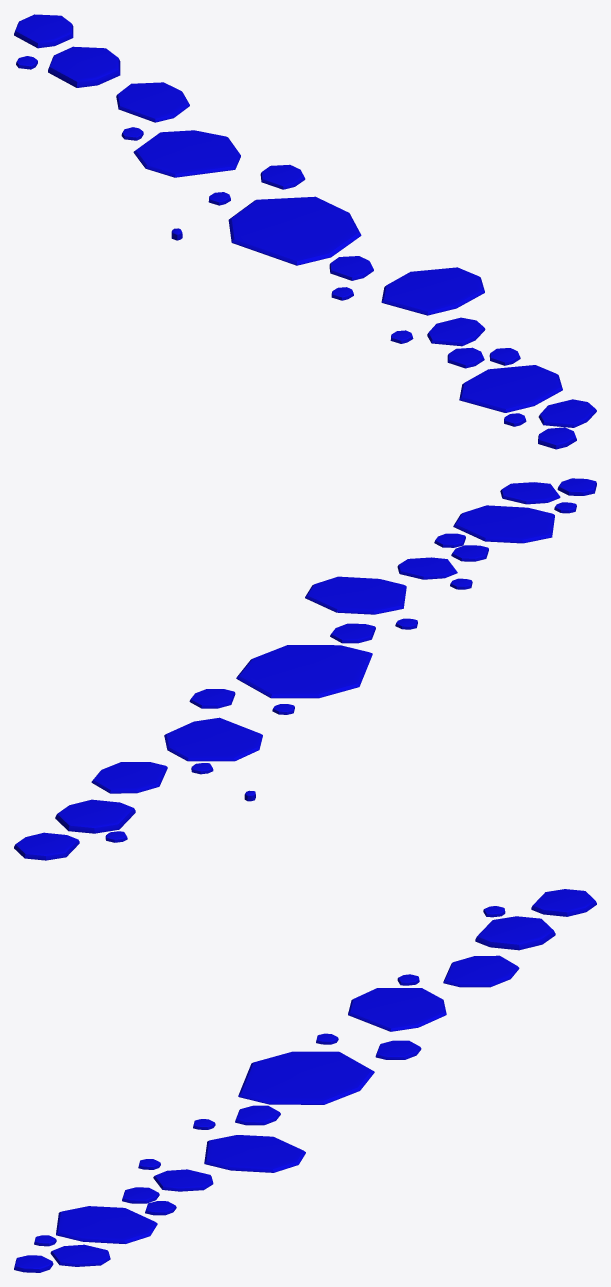
Rendered from TutorialPathMesh.fbx.
The picture shows the model from 3 angles, top to bottom: view 1: azimuth 30°, elevation 25°; view 2: azimuth 150°, elevation 25°; view 3: azimuth 330°, elevation 25°; orthographic projection. The views are drawn at different scales.
Visible parts, largest first — view 1: pCube16, pCube12, pCube3, pCube31, pCube15, pCube10, pCube123, pCube124, pCube2, pCube7, pCube6, pCube126 (+1 smaller); view 2: pCube16, pCube12, pCube31, pCube3, pCube15, pCube10, pCube123, pCube124, pCube2, pCube6, pCube7, pCube126 (+1 smaller); view 3: pCube16, pCube12, pCube3, pCube31, pCube15, pCube10, pCube123, pCube2, pCube124, pCube6, pCube7, pCube126 (+1 smaller).
Part boxes in pixels (x1=…): pCube16: x1=228, y1=196, x2=361, y2=265; pCube12: x1=133, y1=130, x2=240, y2=177; pCube3: x1=381, y1=267, x2=484, y2=315; pCube31: x1=459, y1=365, x2=562, y2=412; pCube15: x1=48, y1=46, x2=120, y2=87; pCube10: x1=116, y1=82, x2=189, y2=122; pCube123: x1=14, y1=14, x2=73, y2=48; pCube124: x1=538, y1=399, x2=596, y2=427; pCube2: x1=427, y1=317, x2=485, y2=346; pCube7: x1=260, y1=164, x2=305, y2=189; pCube6: x1=329, y1=256, x2=373, y2=280; pCube126: x1=538, y1=427, x2=576, y2=449; pCube16: x1=236, y1=645, x2=372, y2=698; pCube12: x1=164, y1=717, x2=262, y2=761; pCube31: x1=453, y1=505, x2=554, y2=543; pCube3: x1=305, y1=576, x2=406, y2=614; pCube15: x1=55, y1=799, x2=135, y2=833; pCube10: x1=91, y1=762, x2=167, y2=793; pCube123: x1=14, y1=832, x2=79, y2=860; pCube124: x1=500, y1=482, x2=560, y2=504; pCube2: x1=397, y1=557, x2=457, y2=579; pCube6: x1=330, y1=623, x2=375, y2=643; pCube7: x1=189, y1=689, x2=235, y2=708; pCube126: x1=557, y1=478, x2=596, y2=495; pCube16: x1=238, y1=1051, x2=374, y2=1104; pCube12: x1=348, y1=988, x2=446, y2=1031; pCube3: x1=204, y1=1135, x2=305, y2=1172; pCube31: x1=56, y1=1206, x2=157, y2=1243; pCube15: x1=475, y1=916, x2=555, y2=950; pCube10: x1=443, y1=955, x2=519, y2=987; pCube123: x1=531, y1=889, x2=596, y2=916; pCube2: x1=153, y1=1169, x2=213, y2=1191; pCube124: x1=50, y1=1244, x2=110, y2=1266; pCube6: x1=235, y1=1105, x2=280, y2=1125; pCube7: x1=375, y1=1040, x2=421, y2=1059; pCube126: x1=14, y1=1255, x2=53, y2=1272.
Size of the model in its own units: 204 by 92.22 by 1343.
